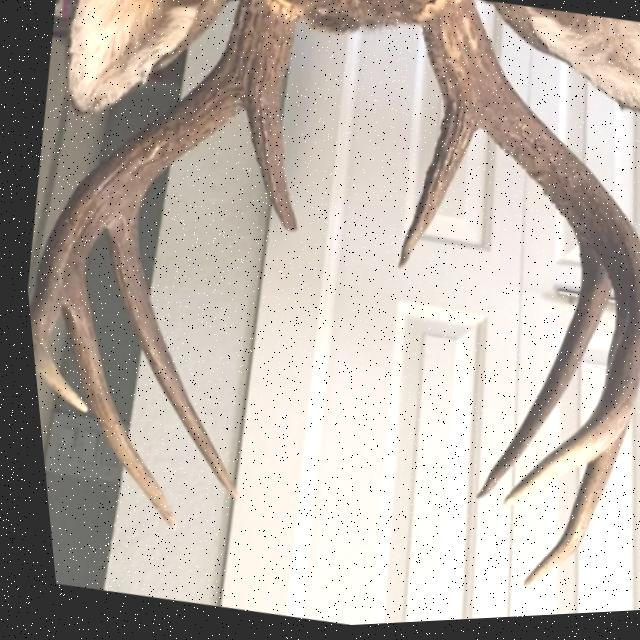L-F: (23, 0, 296, 415)
L-G1: (242, 96, 292, 236)
L-G2: (101, 206, 229, 501)
L-G3: (54, 270, 166, 532)
R-F: (413, 1, 640, 511)
R-G1: (391, 106, 475, 274)
R-G2: (465, 236, 606, 505)
